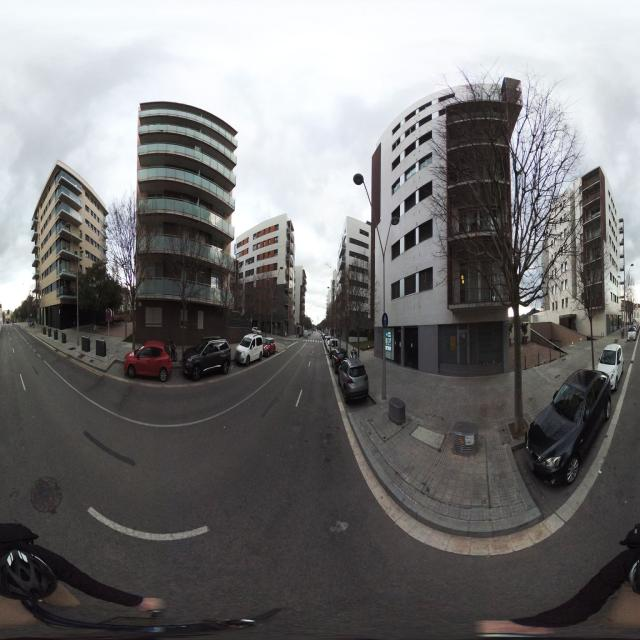forb_stopping: (106, 310, 111, 320)
